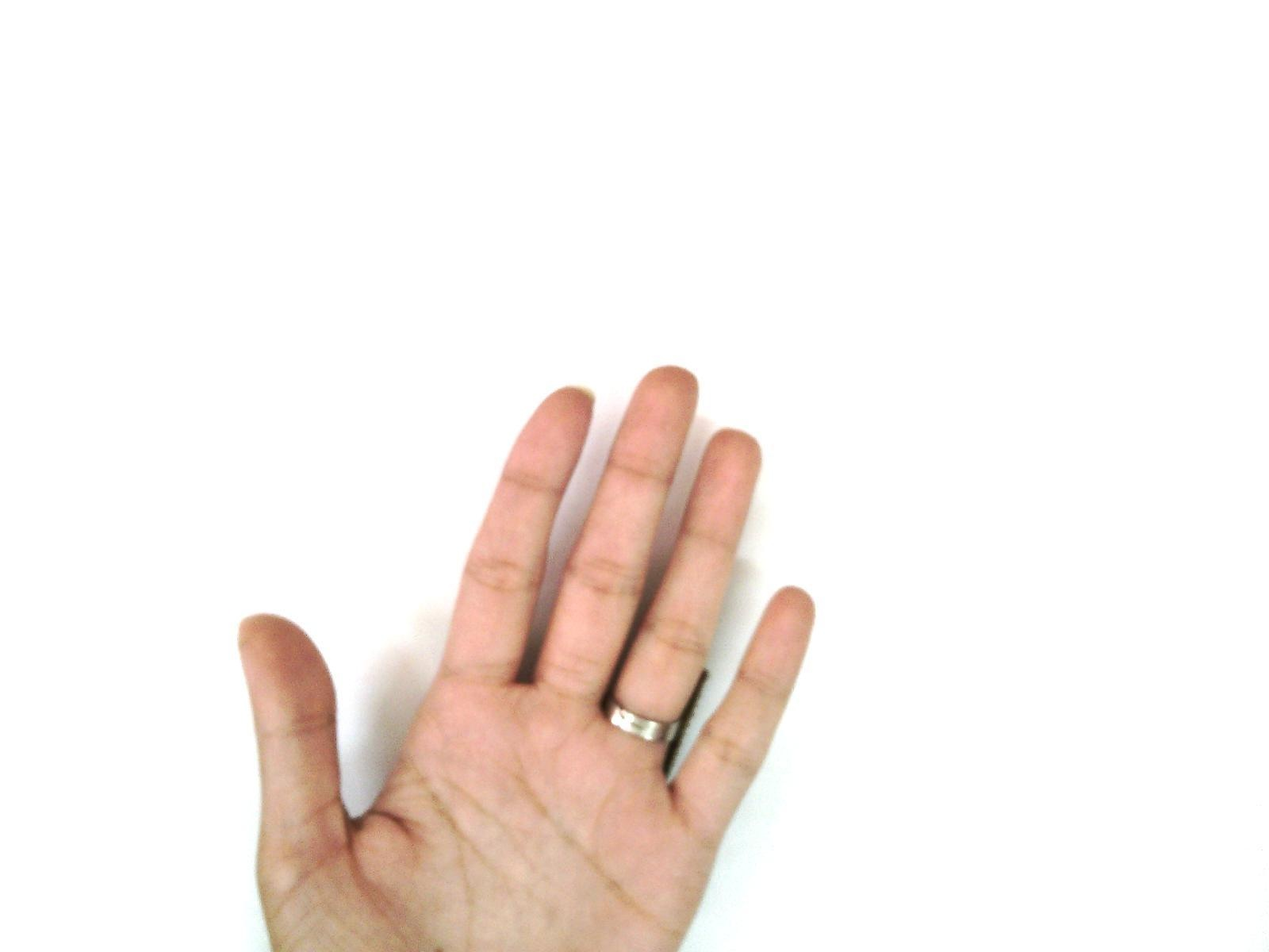open_palm: (235, 364, 819, 951)
